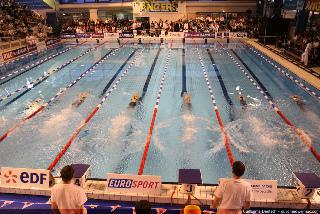human: (68, 90, 92, 110), (288, 93, 308, 112), (122, 92, 138, 114), (180, 92, 192, 112), (237, 92, 249, 112)
